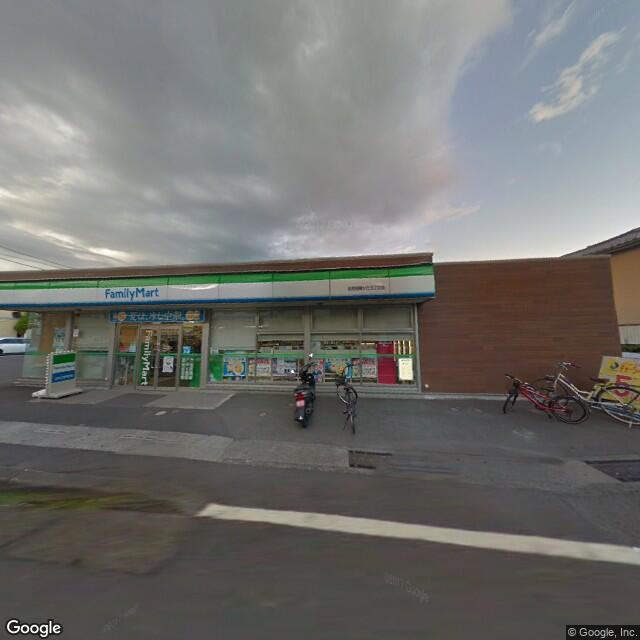family_mart: (1, 258, 435, 312), (102, 284, 161, 301)
